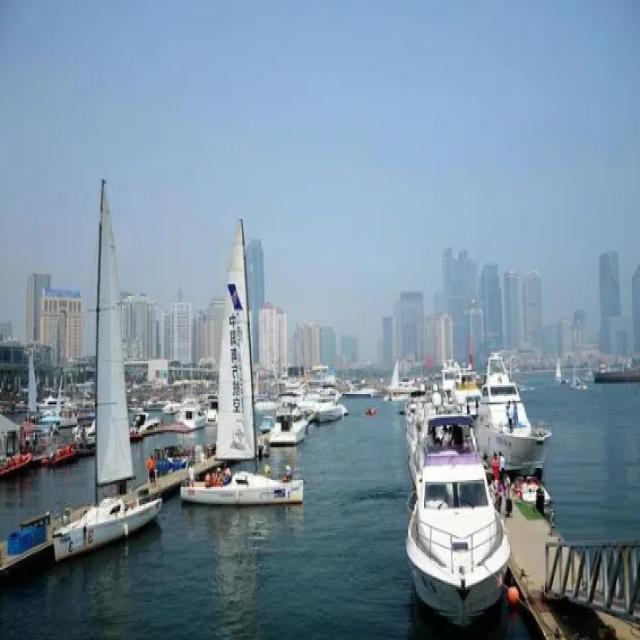houseboat: (400, 356, 508, 612), (476, 343, 550, 467)
sailboat: (46, 192, 160, 564), (169, 220, 296, 516)
